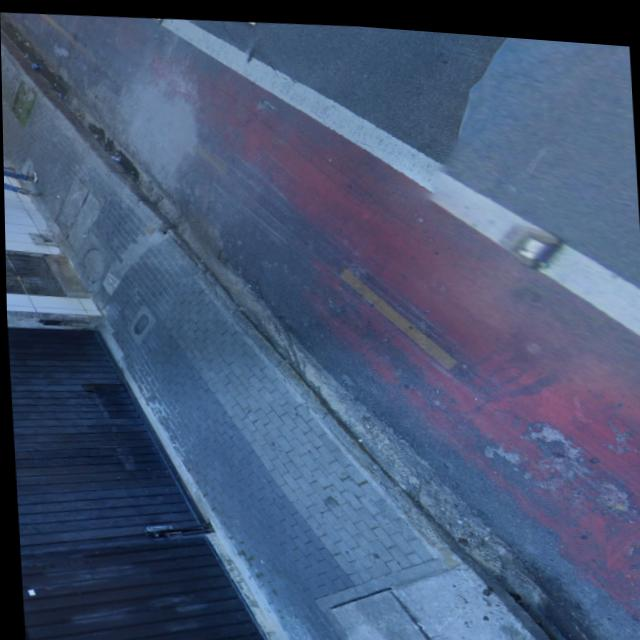Buraco: (591, 392, 640, 450), (461, 422, 525, 461), (601, 509, 640, 560)
